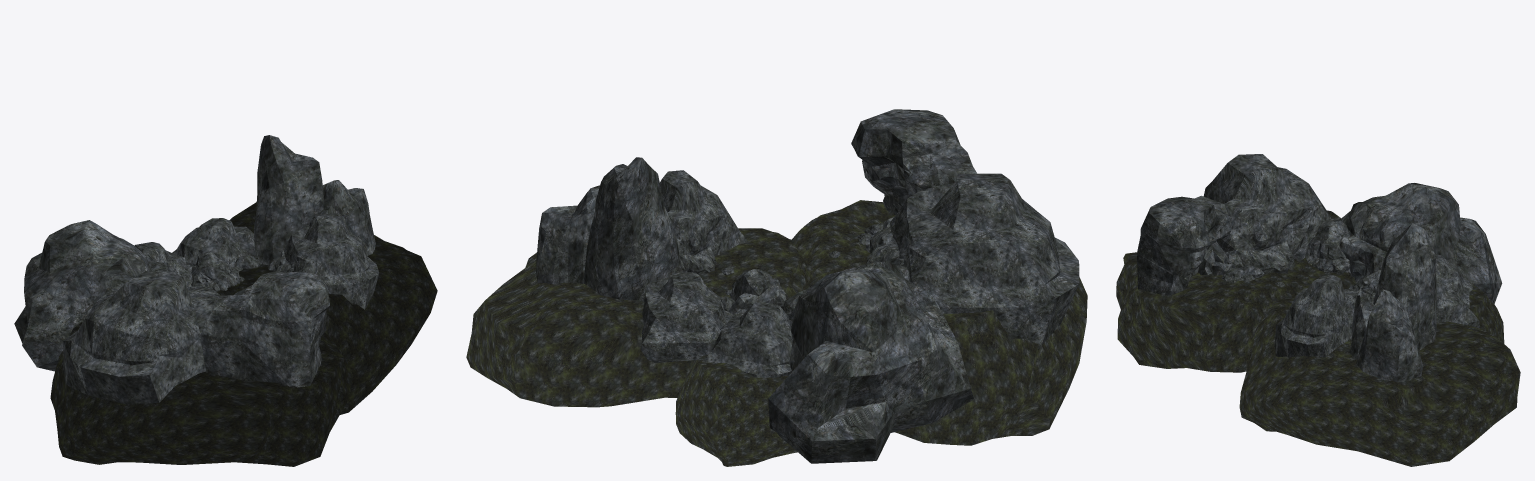
3 renders of one model, left to right at view 1: azimuth 30°, elevation 25°; view 2: azimuth 150°, elevation 25°; view 3: azimuth 270°, elevation 25°, orthographic. The views are drawn at different scales.
Visible parts, largest first — view 1: plane; view 2: plane; view 3: plane.
Part boxes in pixels (<box>): plane: <box>14,135,437,466</box>; plane: <box>466,109,1087,466</box>; plane: <box>1116,154,1520,466</box>.
Bounding box in the file's own units: 4982 × 4279 × 4442.
